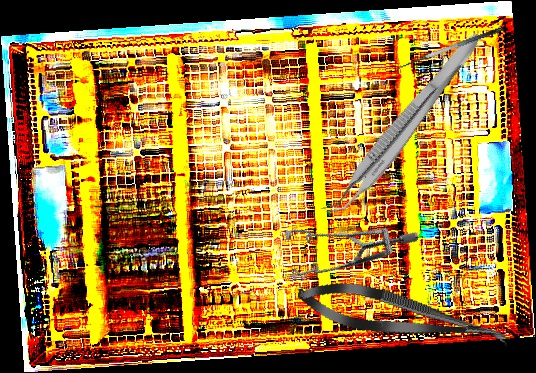Micro Scissor: (293, 272, 515, 361)
Spatula Surgical: (393, 25, 509, 78)
Speculum: (267, 181, 421, 321)
Tissue Forceps: (319, 21, 486, 228)
